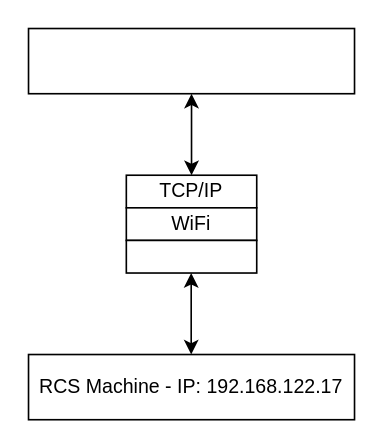
Some shapes in this 383 by 448 pixel diagram are drawn without their labels. The shapes that lost their labels are listed below. From the top down, each one's box as (x1, y1, x2, y2) in pixels, then its label:
(27, 27, 355, 94): MCP Machine - IP: 192.168.122.1
(125, 239, 257, 273): RF
